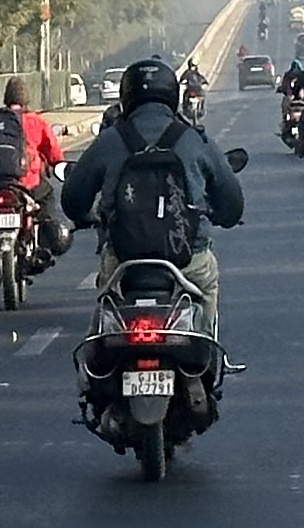BikeWithRider: (54, 51, 255, 489), (0, 69, 80, 316), (269, 51, 304, 160), (172, 53, 215, 138), (251, 0, 274, 44)
Helmet: (112, 52, 185, 125)
NoHelmet: (0, 71, 36, 116)
